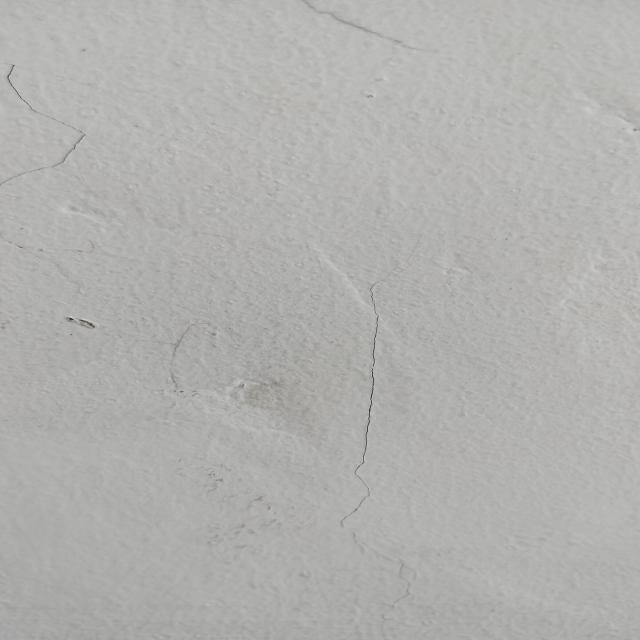Crack: (3, 62, 98, 183)
